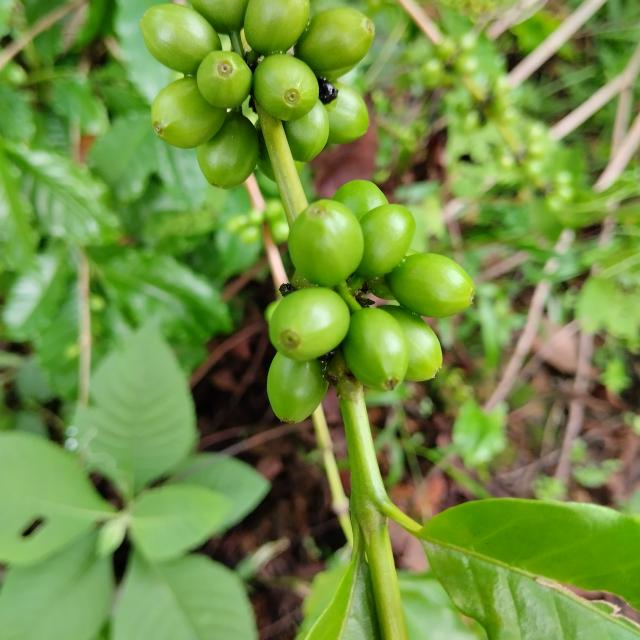green: (288, 199, 364, 287), (269, 286, 350, 362), (295, 6, 375, 80), (140, 2, 221, 75), (386, 253, 475, 318), (343, 308, 410, 391), (151, 76, 226, 148), (196, 108, 259, 189), (380, 305, 443, 381), (356, 204, 416, 278), (252, 53, 318, 120), (267, 352, 329, 423), (244, 0, 309, 56), (196, 50, 252, 108), (283, 98, 330, 161), (325, 81, 369, 143), (332, 179, 389, 220)
